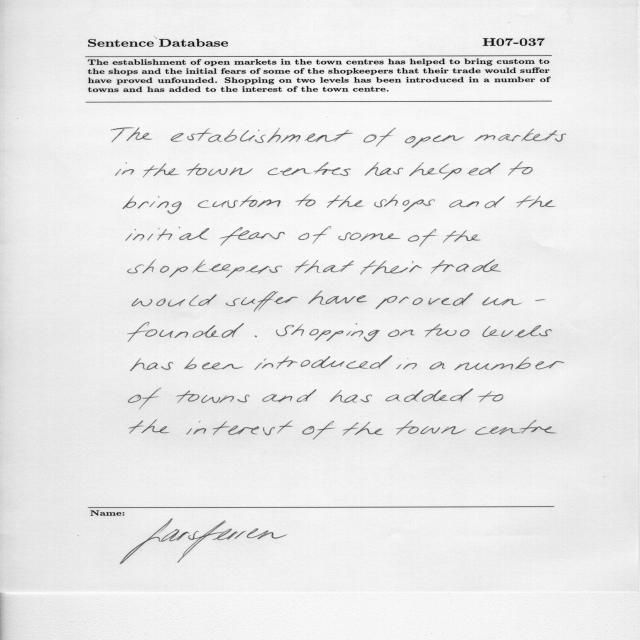word: (127, 259, 282, 278), (171, 128, 354, 143), (128, 322, 244, 342), (254, 356, 392, 370), (276, 324, 380, 342), (410, 162, 501, 180), (186, 421, 293, 436), (376, 293, 474, 309), (226, 291, 298, 312), (454, 357, 565, 370), (220, 227, 285, 246), (386, 389, 474, 403), (475, 420, 556, 435), (475, 129, 566, 142), (267, 162, 351, 176), (126, 227, 209, 241), (132, 294, 217, 307), (374, 194, 435, 212), (198, 195, 281, 208), (123, 196, 182, 214), (396, 420, 466, 435), (431, 260, 501, 274), (177, 391, 250, 404), (186, 163, 253, 176), (361, 261, 423, 275), (482, 325, 552, 337), (308, 291, 367, 305), (405, 135, 464, 148), (295, 260, 354, 273), (185, 357, 244, 370), (263, 390, 317, 403), (128, 388, 161, 409), (449, 197, 505, 209), (363, 128, 396, 147), (302, 421, 335, 440), (129, 419, 169, 434), (425, 324, 470, 337), (111, 128, 152, 142), (298, 227, 331, 244), (343, 422, 383, 436), (131, 358, 174, 371), (338, 232, 400, 241), (330, 390, 372, 403), (365, 162, 403, 176), (408, 229, 437, 247), (516, 195, 556, 208), (143, 164, 179, 178), (482, 297, 545, 305), (443, 230, 481, 243), (327, 195, 364, 208), (508, 162, 533, 176), (478, 392, 503, 403), (296, 194, 316, 207), (116, 162, 134, 176), (388, 329, 415, 337), (396, 363, 417, 369), (430, 362, 445, 370), (255, 336, 257, 338)
